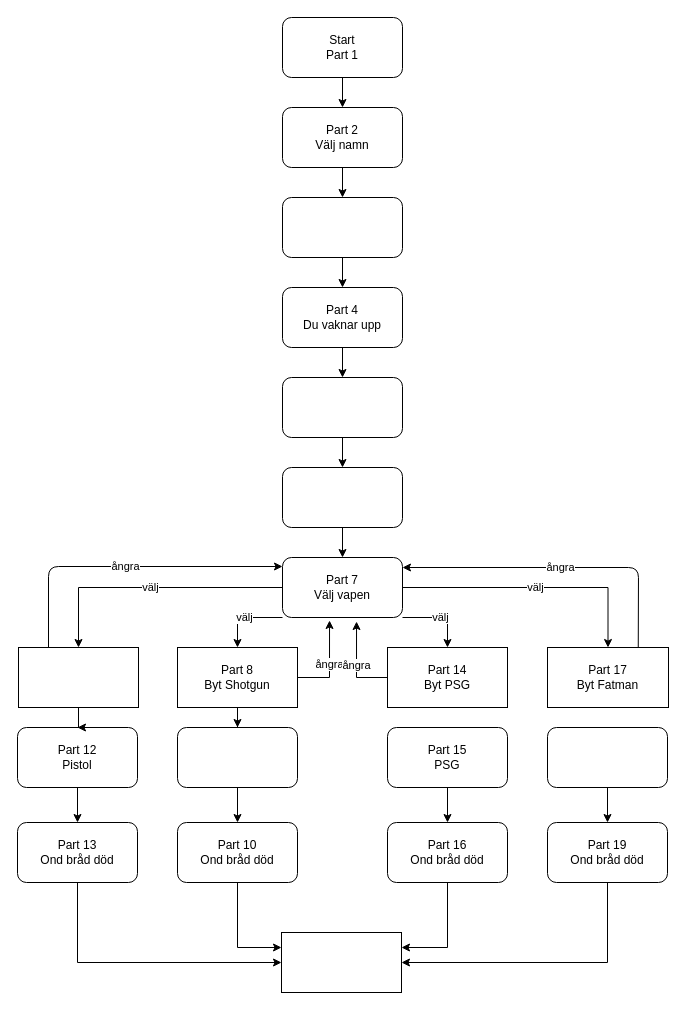
Some shapes in this 686 by 1010 pixel diagram are drawn without their labels. Here are the shapes that lost their labels. From the top down, the centre of each, then its label:
At point 342,227: "Part 3 Vek eller stark".
At point 342,407: "Part 5 Omgivningen presenteras".
At point 342,497: "Part 6 In i huset Kassaskåpet".
At point 78,677: "Part 11 Byt Pistol".
At point 237,757: "Part 9 Shotgun".
At point 607,757: "Part 18 Fatman".
At point 341,962: "Part 20 BONUS".
